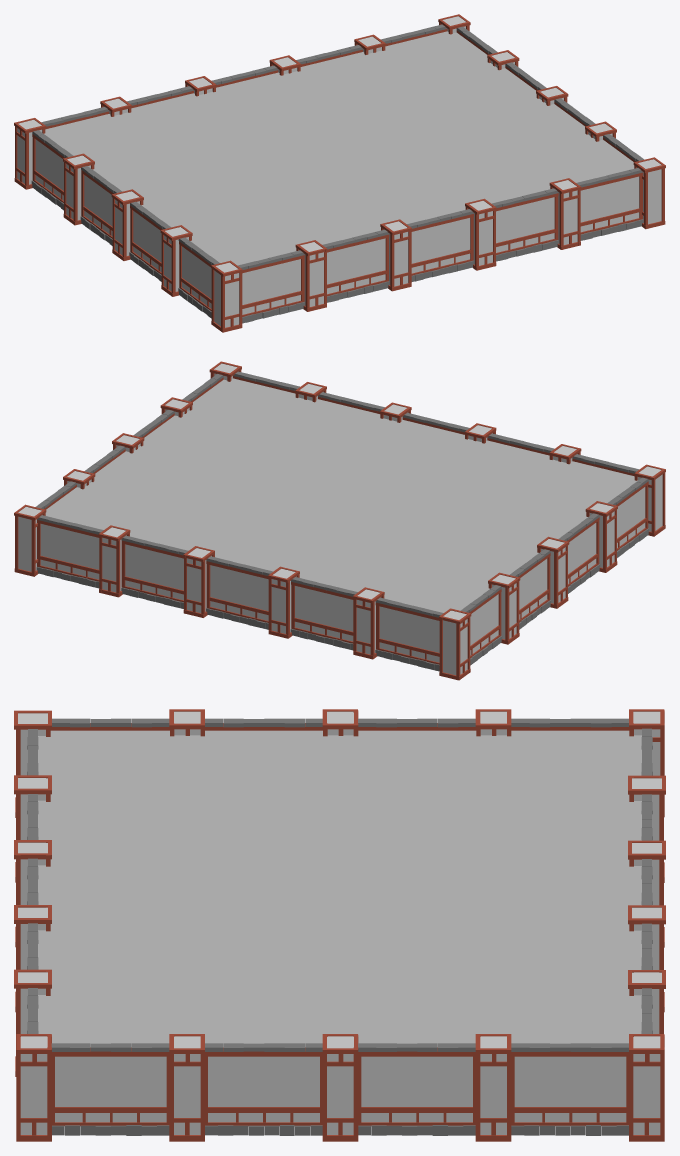
The model's file is SM_platform_preset.fbx.
The picture shows the model from 3 angles, top to bottom: view 1: azimuth 30°, elevation 25°; view 2: azimuth 150°, elevation 25°; view 3: azimuth 270°, elevation 25°; orthographic projection. The views are drawn at different scales.
Parts seen in each view (by area): view 1: Plane039; view 2: Plane039; view 3: Plane039.
Boxes of the visible parts, box(x1,y1,x2,y2) form: Plane039: box(14, 14, 665, 332); Plane039: box(14, 361, 665, 680); Plane039: box(14, 709, 665, 1141).
Size of the model in its own units: 997 by 126 by 807.
